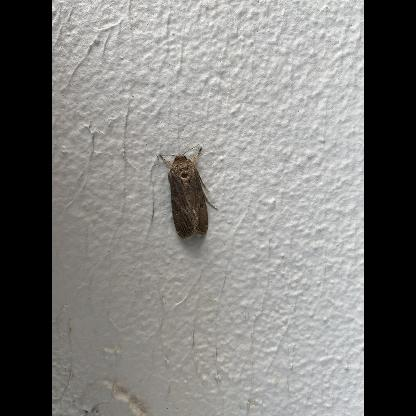Fall Armyworm Moth: (152, 143, 220, 242)
